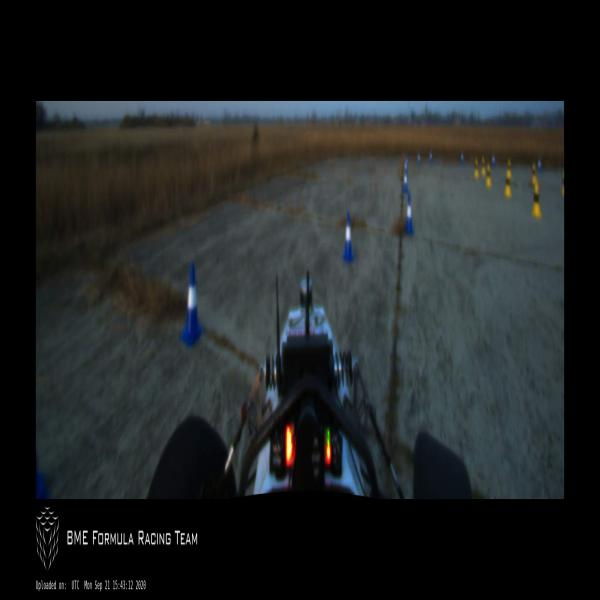blue_cone: (181, 264, 202, 346), (342, 213, 355, 260), (405, 194, 414, 233), (402, 170, 408, 193), (404, 156, 407, 169), (538, 159, 541, 171), (492, 154, 495, 165), (461, 153, 464, 163), (429, 152, 432, 162), (418, 154, 420, 163)
yellow_cone: (532, 181, 542, 217), (505, 174, 512, 198), (486, 164, 492, 188), (481, 157, 486, 177), (474, 159, 479, 178), (506, 160, 511, 178), (532, 163, 536, 184), (562, 170, 564, 196)
